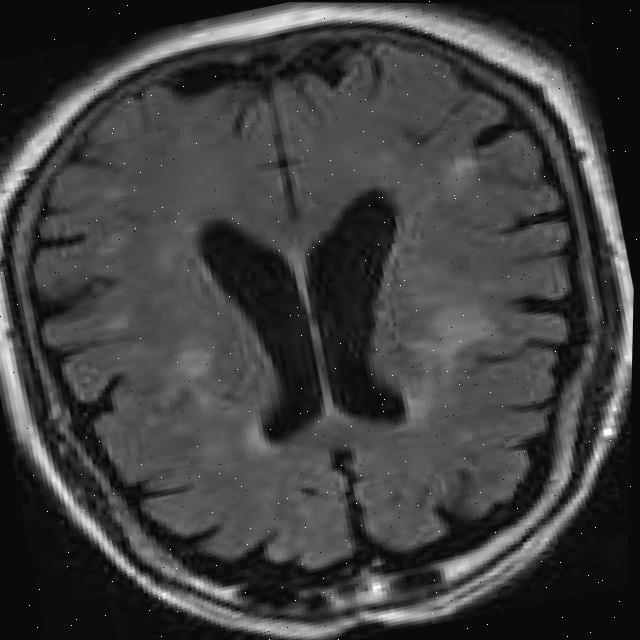NoTumor: (0, 0, 640, 623)
